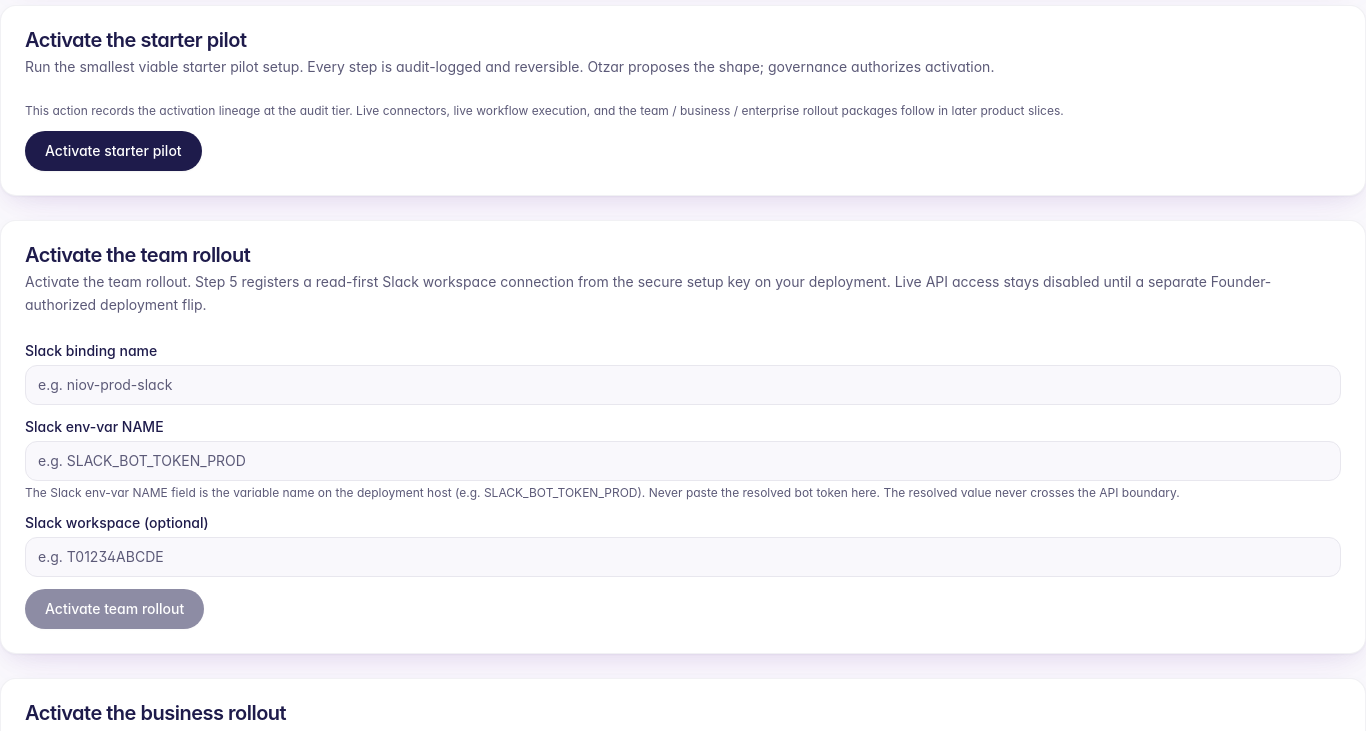
Scenario: D6 team — successful activation › renders all 8 step cards in order after a successful POST
The image size is (1366, 731).
(page scrolled)
Type "niov-prod-slack" into the field with test id "team-slack-display-name-input".
click(683, 384); type("niov-prod-slack")  # box [25,364,1341,404]
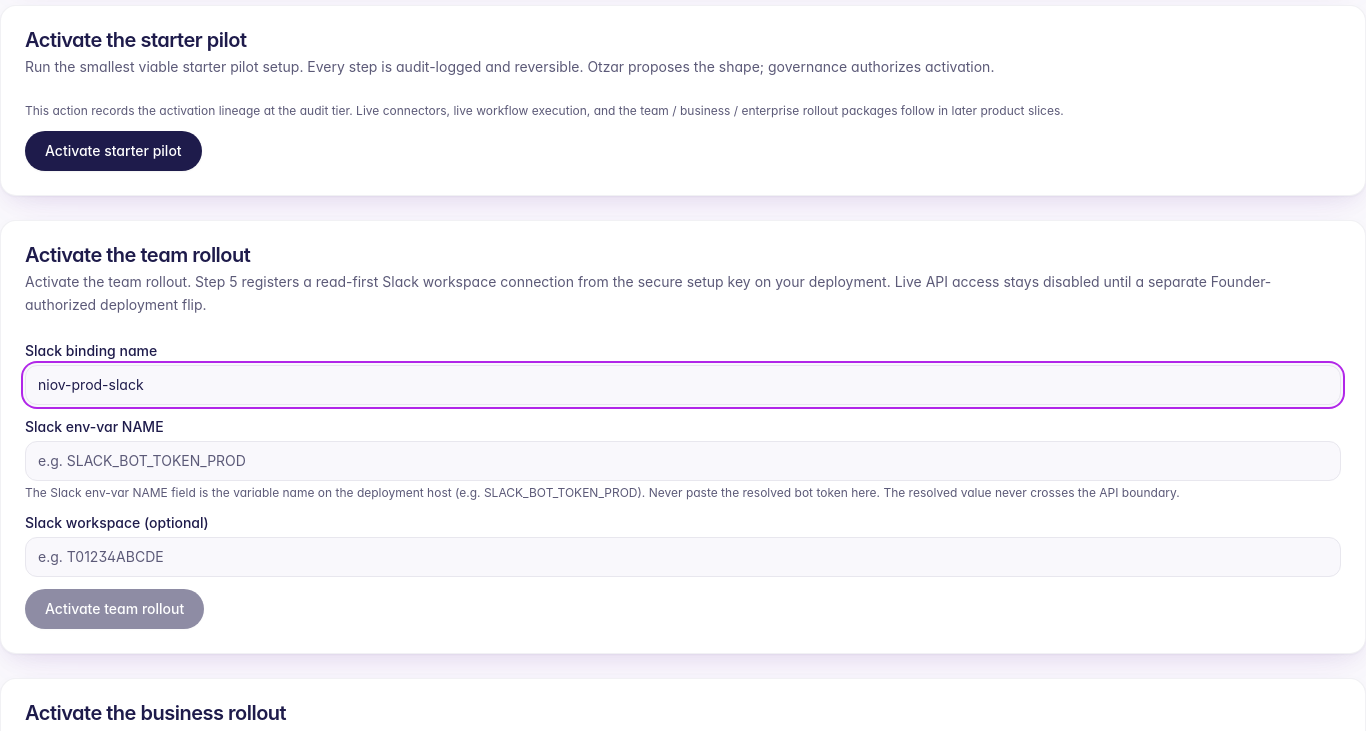
Type "SLACK_BOT_TOKEN_PROD" into the field with test id "team-slack-secret-ref-input".
click(683, 460); type("SLACK_BOT_TOKEN_PROD")  # box [25,440,1341,480]
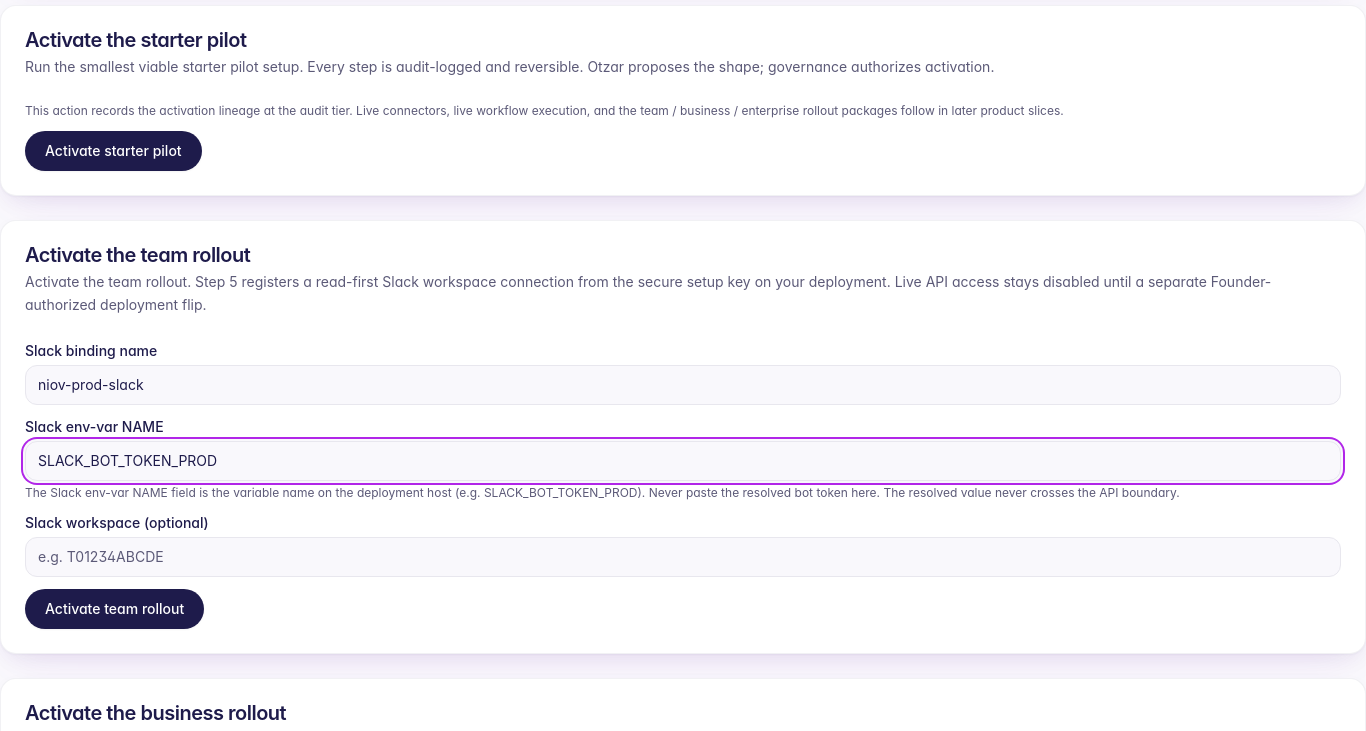
Click the button with test id "activate-team-button".
click(115, 608)  # box [25,588,204,628]
(page scrolled)
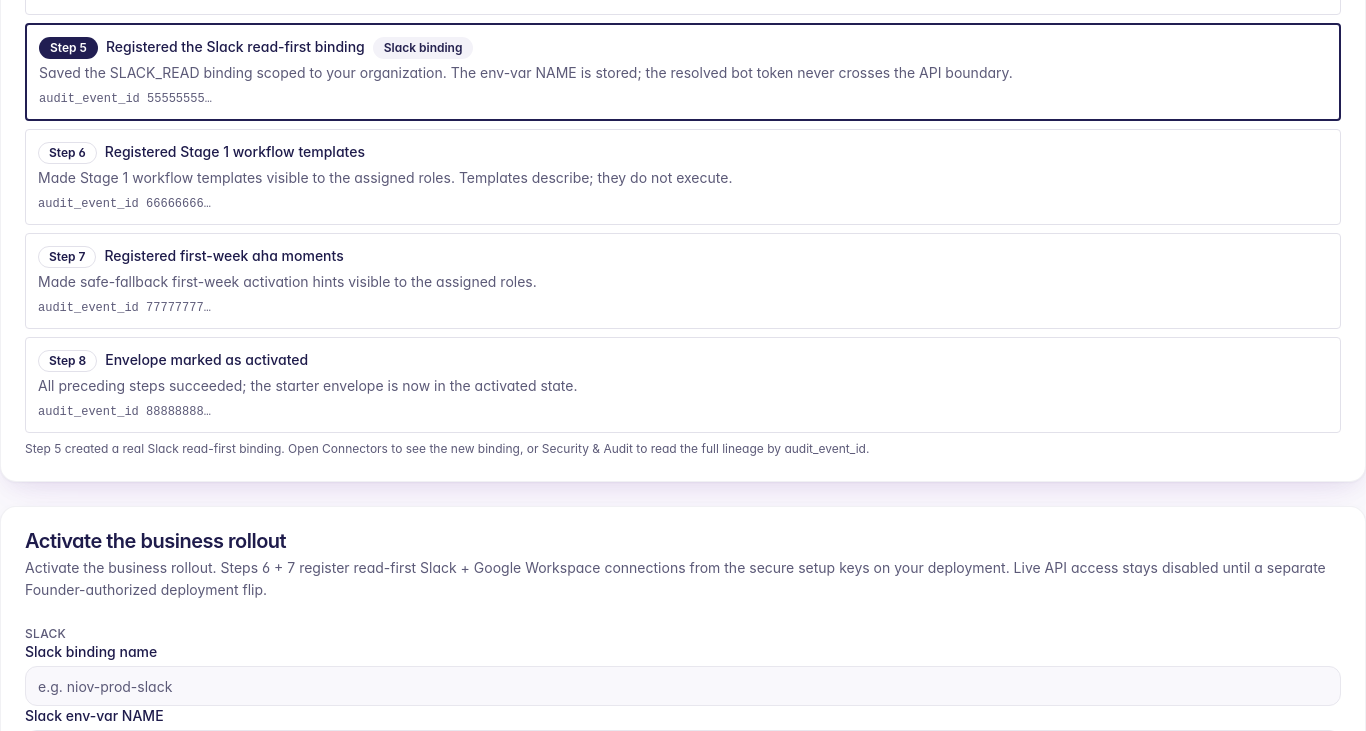
Now the element with test id "activation-step-5" is shown, box [25,22,1341,120]
